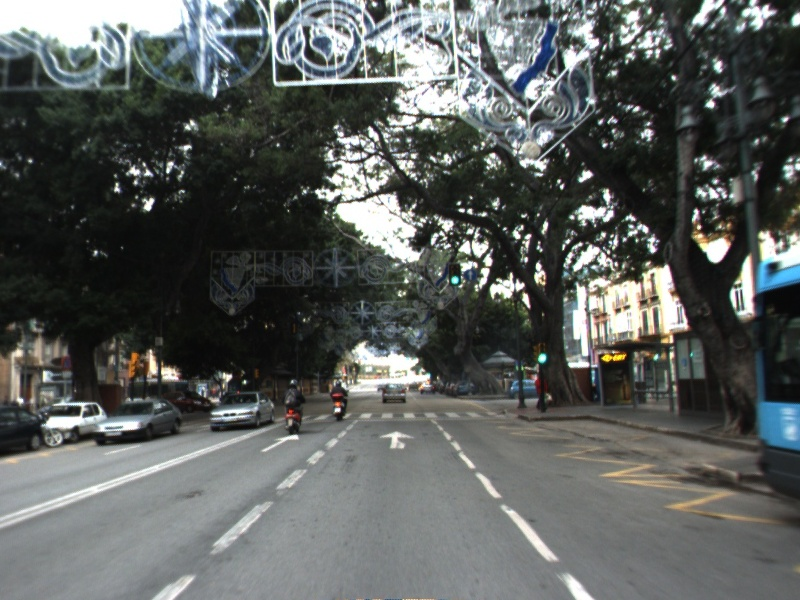STRAIGHT: (258, 432, 301, 454), (377, 428, 417, 451)
